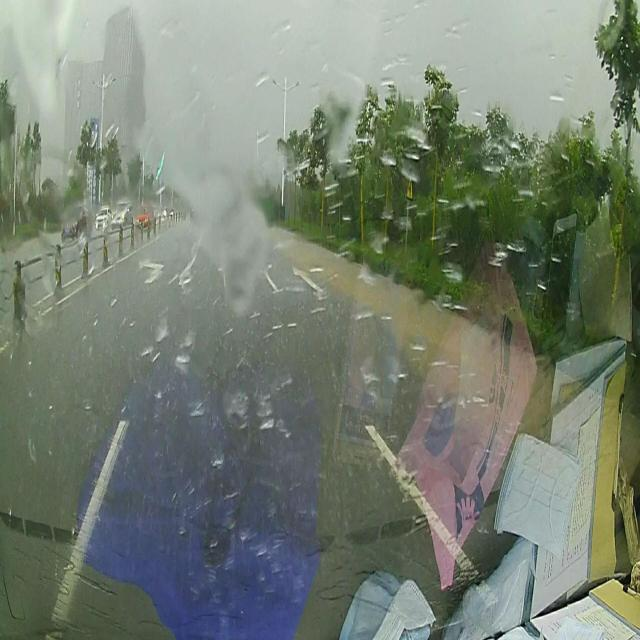car: (59, 203, 90, 243), (111, 203, 132, 230), (136, 202, 154, 228), (94, 205, 112, 227)
